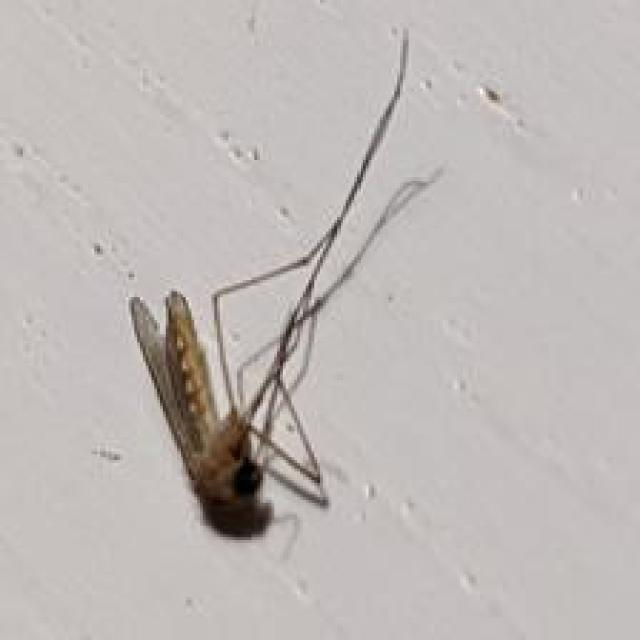Culex: (127, 287, 330, 539)
